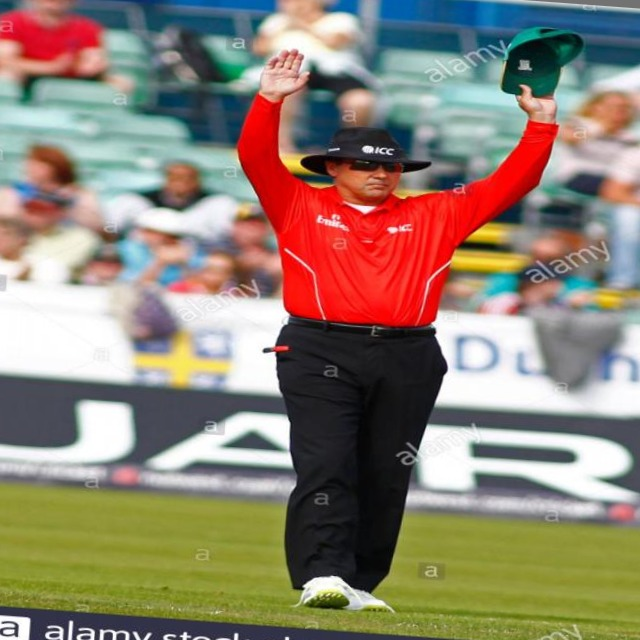Six: (196, 0, 596, 634)
